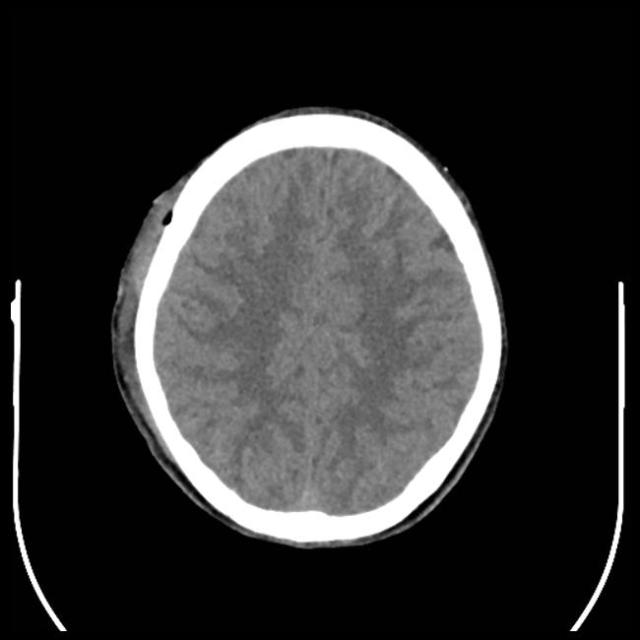lesion: (106, 102, 511, 550)
